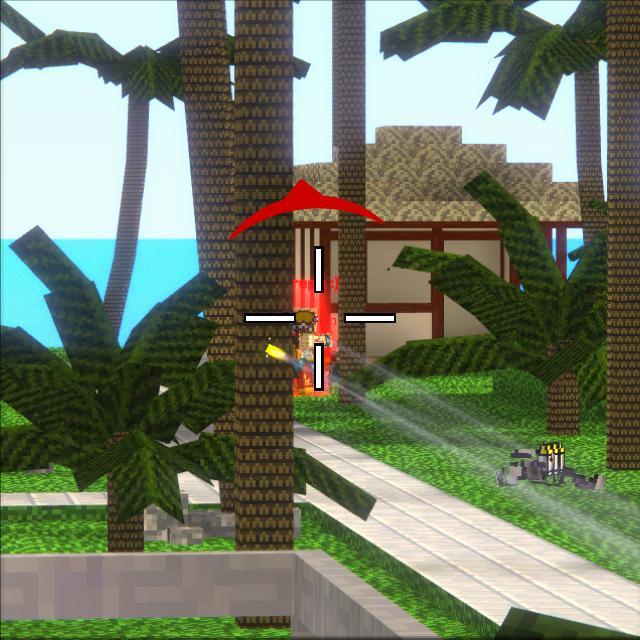Enemy: (293, 308, 333, 397)
